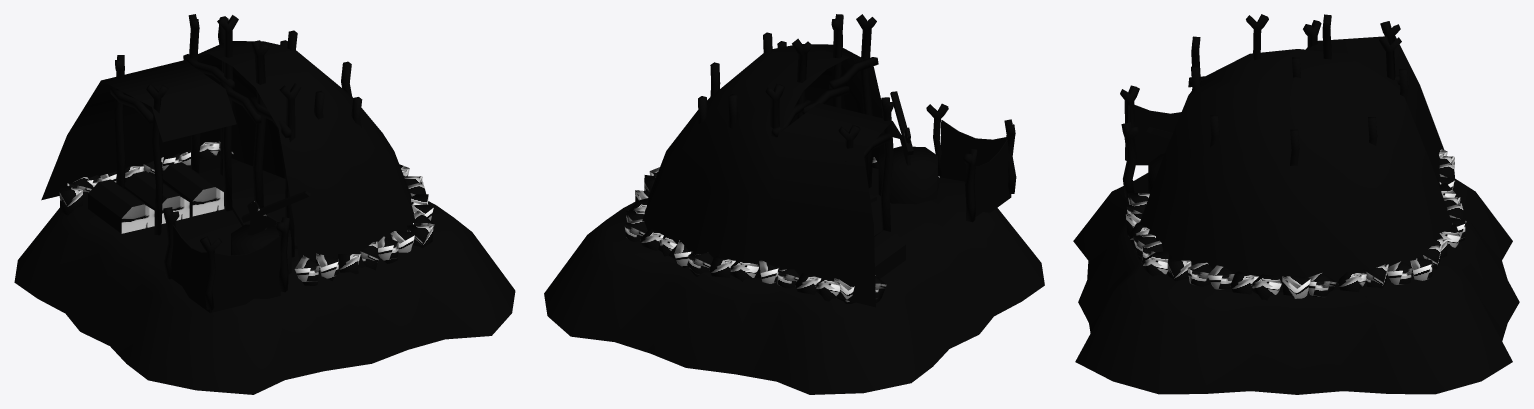
The model's file is storehouse.dae.
The picture shows the model from 3 angles, left to right: view 1: azimuth 30°, elevation 25°; view 2: azimuth 150°, elevation 25°; view 3: azimuth 270°, elevation 25°; orthographic projection. The views are drawn at different scales.
Parts seen in each view (by area): view 1: storehouse; view 2: storehouse; view 3: storehouse.
Boxes of the visible parts, box(x1,y1,x2,y2) form: storehouse: box(14, 14, 515, 394); storehouse: box(544, 14, 1044, 394); storehouse: box(1073, 14, 1519, 394).
Size of the model in its own units: 15.27 by 15.42 by 10.43.
1 material, 1 textured.
